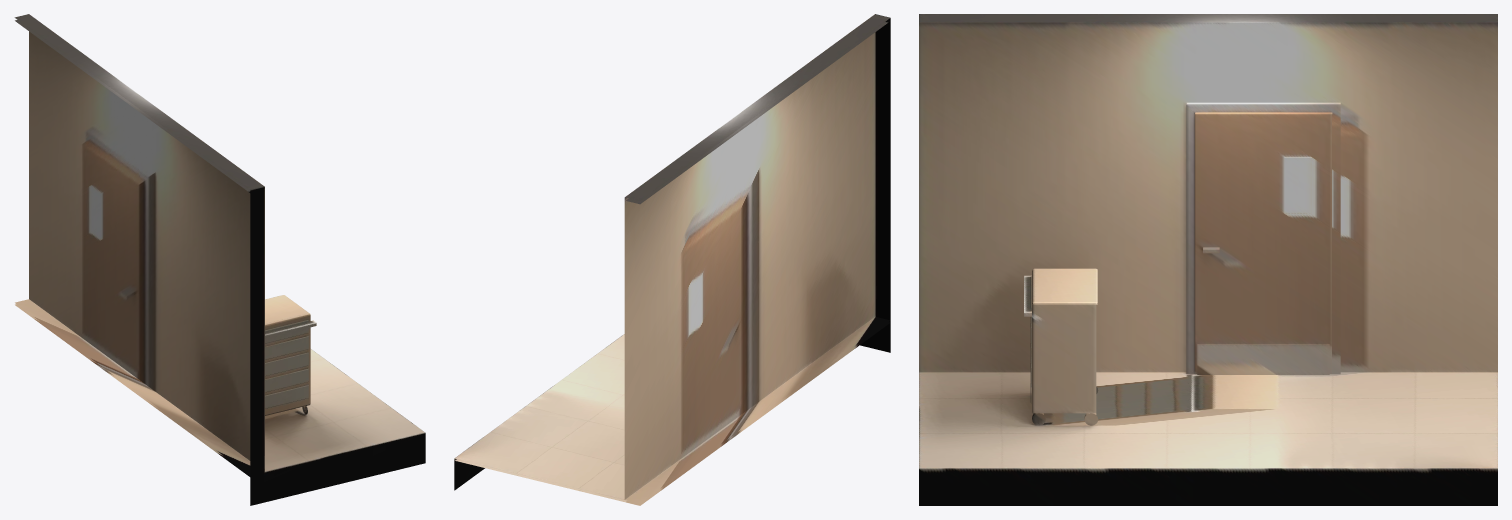
Rendered from side-left-alt.glb.
The picture shows the model from 3 angles, left to right: view 1: azimuth 30°, elevation 25°; view 2: azimuth 150°, elevation 25°; view 3: azimuth 270°, elevation 25°; orthographic projection. The views are drawn at different scales.
Visible parts, largest first — view 1: sideLeftAlt; view 2: sideLeftAlt; view 3: sideLeftAlt.
Boxes of the visible parts, box(x1,y1,x2,y2) form: sideLeftAlt: box(14, 14, 425, 505); sideLeftAlt: box(454, 14, 890, 505); sideLeftAlt: box(919, 14, 1497, 505).
Size of the model in its own units: 1.8 by 3.1 by 4.2.
1 material, 1 textured.
